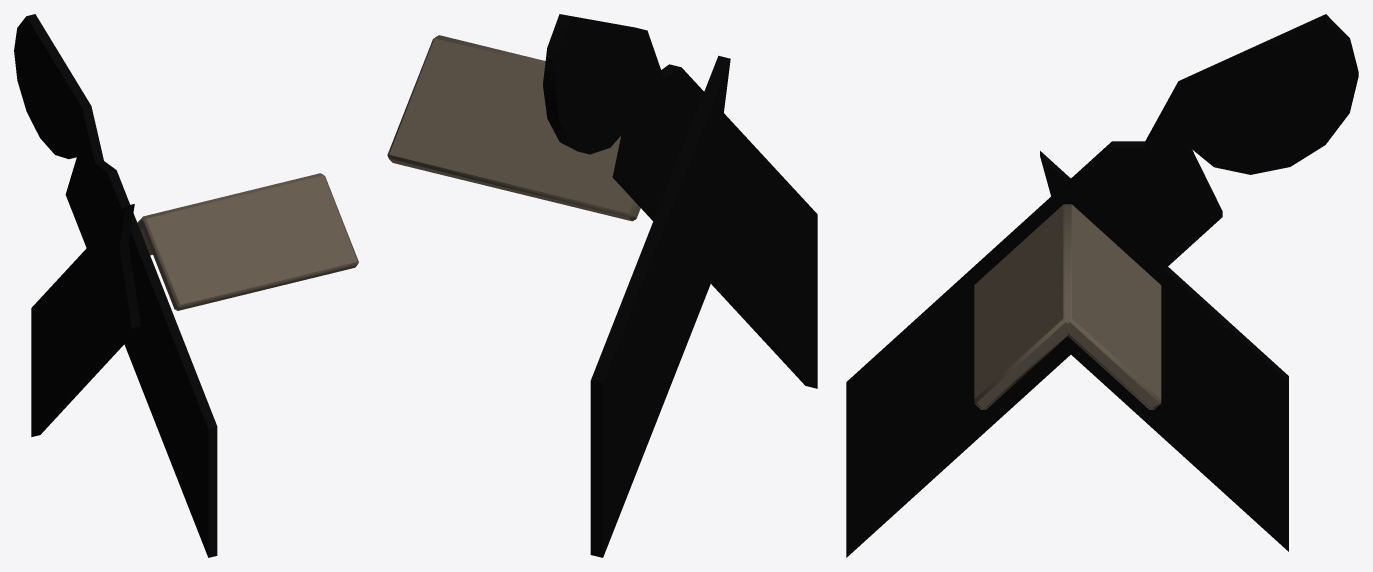
File: dach_zier_l_kaputt.glb
The picture shows the model from 3 angles, left to right: view 1: azimuth 30°, elevation 25°; view 2: azimuth 150°, elevation 25°; view 3: azimuth 270°, elevation 25°; orthographic projection. The views are drawn at different scales.
Parts seen in each view (by area): view 1: dach_zier_l_kaputt; view 2: dach_zier_l_kaputt; view 3: dach_zier_l_kaputt.
Boxes of the visible parts, x1=… form: dach_zier_l_kaputt: x1=14, y1=14, x2=358, y2=557; dach_zier_l_kaputt: x1=387, y1=14, x2=817, y2=557; dach_zier_l_kaputt: x1=846, y1=14, x2=1358, y2=557.
Bounding box in the file's own units: 0.575 × 1.07 × 0.9257.
